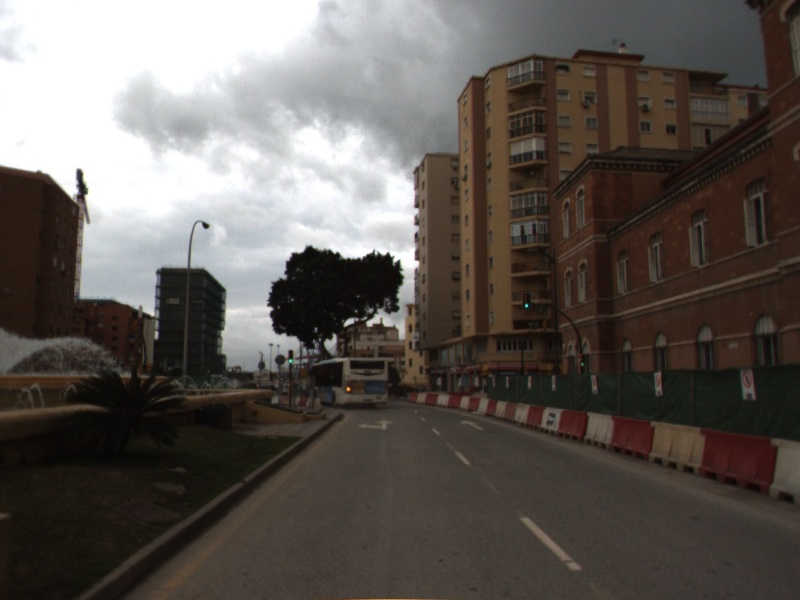STRAIGHT: (458, 418, 487, 431)
STRAIGHT_LEFT: (356, 418, 395, 431)
